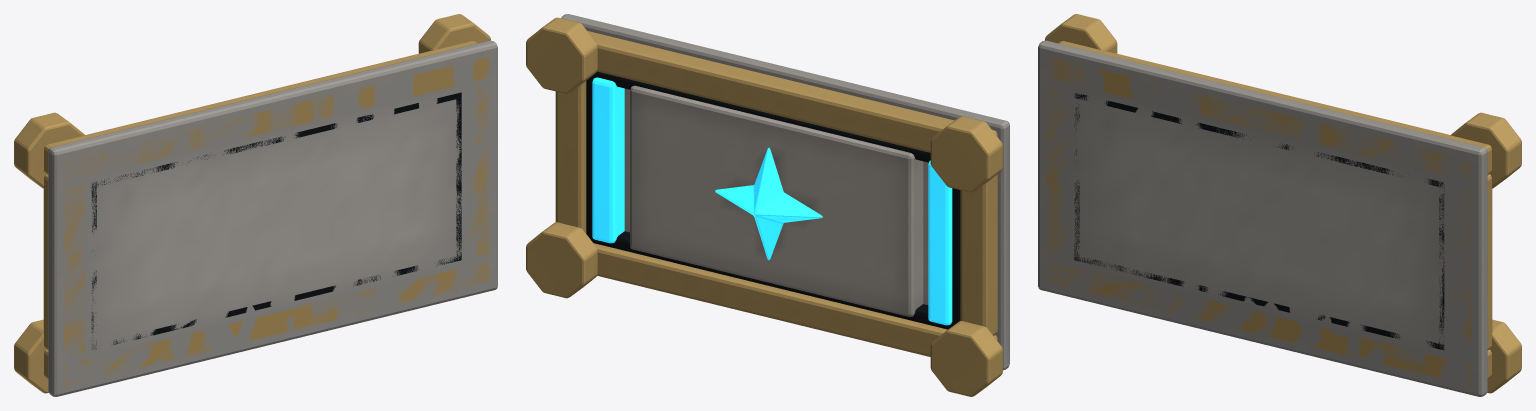
File: board_push_1.glb
The picture shows the model from 3 angles, left to right: view 1: azimuth 30°, elevation 25°; view 2: azimuth 150°, elevation 25°; view 3: azimuth 330°, elevation 25°; orthographic projection.
Parts seen in each view (by area): view 1: Back, FrameT, FrameB, FrameL, Bolt1, FrameR, Bolt3, Bolt0, GrooveT, GrooveB, GrooveR; view 2: Panel, FrameT, FrameB, Back, FrameL, Bar1, FrameR, Bolt1, Bolt3, Bolt0, Bolt2, Bar0 (+5 smaller); view 3: Back, FrameT, FrameB, Bolt0, FrameL, Bolt2, Bolt1, FrameR, GrooveB, GrooveT, GrooveR.
Boxes of the visible parts, <box> form: Back: <box>48,40,497,396</box>; FrameT: <box>44,41,489,180</box>; FrameB: <box>44,261,489,385</box>; FrameL: <box>43,174,84,356</box>; Bolt1: <box>14,112,84,188</box>; FrameR: <box>468,86,489,256</box>; Bolt3: <box>14,319,48,393</box>; Bolt0: <box>418,14,490,53</box>; GrooveT: <box>92,92,461,187</box>; GrooveB: <box>92,255,461,349</box>; GrooveR: <box>456,92,461,261</box>; Panel: <box>630,85,923,316</box>; FrameT: <box>587,31,997,152</box>; FrameB: <box>593,243,997,356</box>; Back: <box>561,14,1009,370</box>; FrameL: <box>960,174,997,335</box>; Bar1: <box>592,77,624,243</box>; FrameR: <box>555,81,586,233</box>; Bolt1: <box>930,116,1002,192</box>; Bolt3: <box>930,321,1002,396</box>; Bolt0: <box>526,17,597,93</box>; Bolt2: <box>526,222,597,298</box>; Bar0: <box>928,160,952,325</box>; Back: <box>1038,40,1487,396</box>; FrameT: <box>1047,41,1491,181</box>; FrameB: <box>1046,261,1491,385</box>; Bolt0: <box>1451,112,1521,188</box>; FrameL: <box>1046,87,1067,257</box>; Bolt2: <box>1487,319,1521,393</box>; Bolt1: <box>1045,14,1117,53</box>; FrameR: <box>1451,174,1492,351</box>; GrooveB: <box>1074,256,1444,350</box>; GrooveT: <box>1074,93,1443,187</box>; GrooveR: <box>1439,182,1444,344</box>.
Size of the model in its own units: 1.04 by 0.571 by 0.1315.
